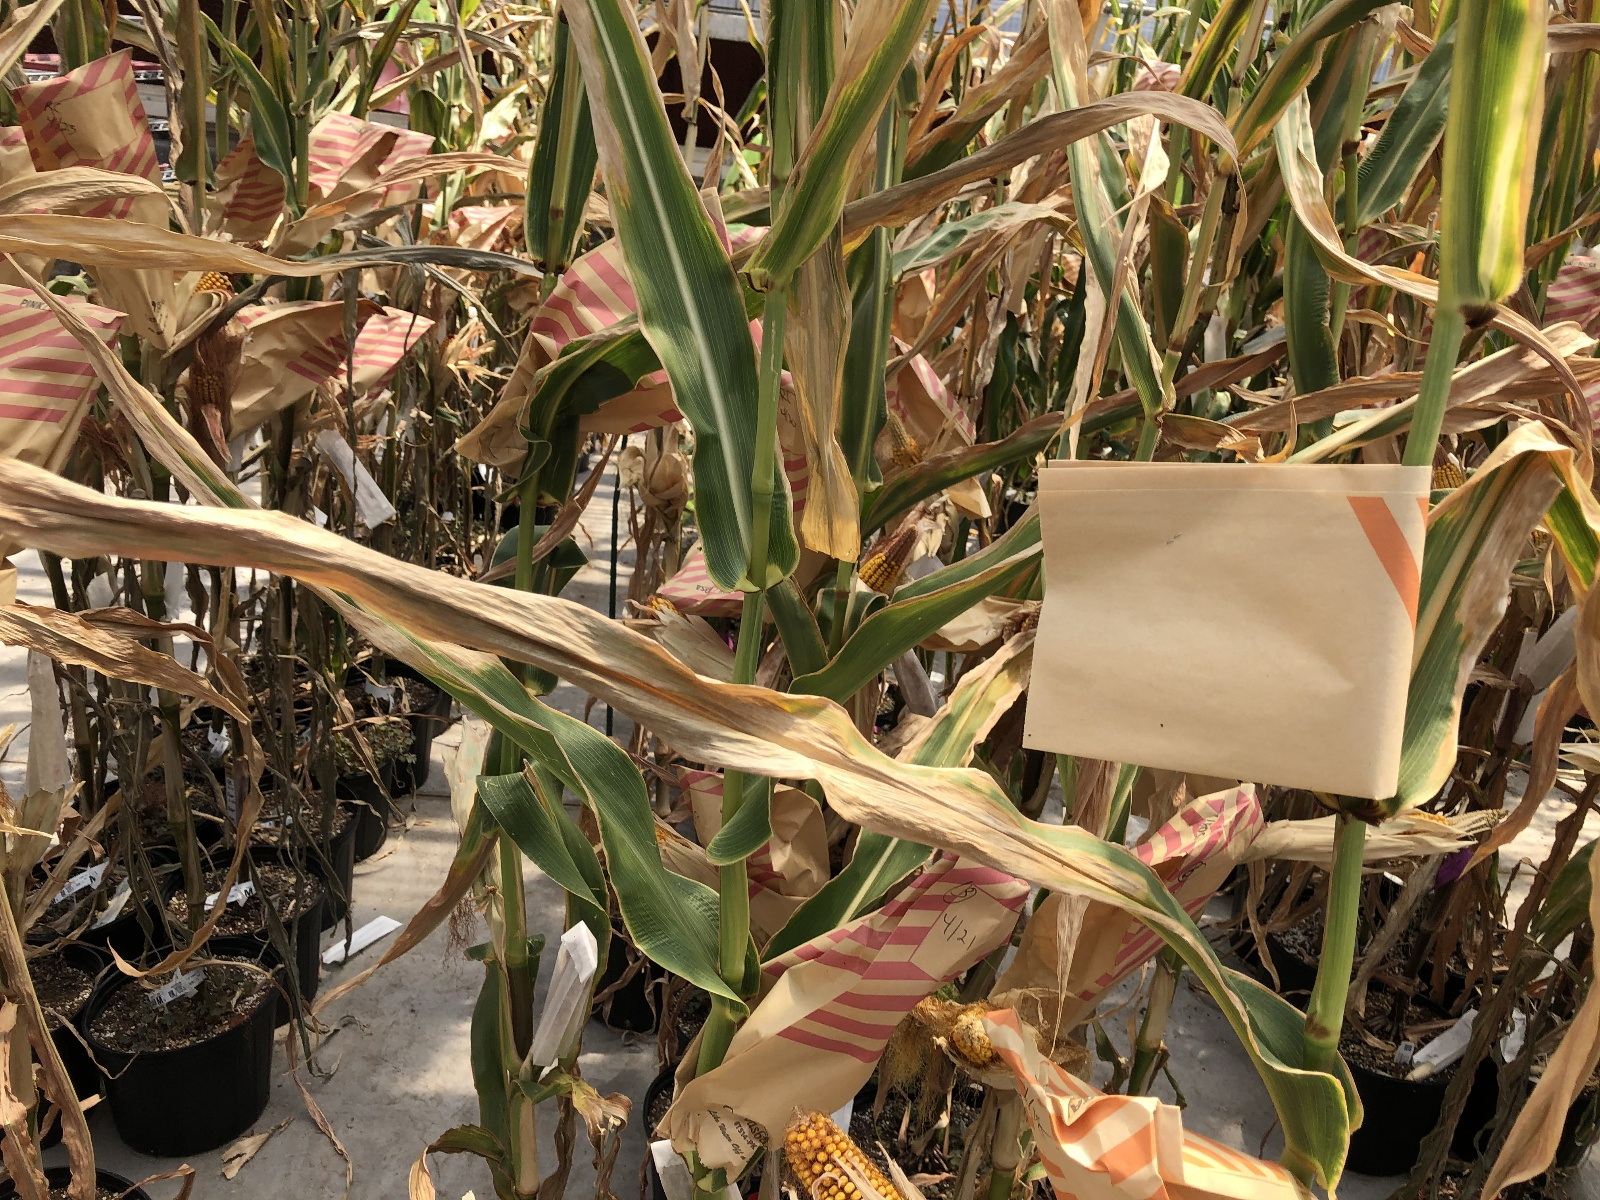ear: (782, 1109, 905, 1197), (1264, 811, 1511, 852), (173, 241, 266, 328), (937, 991, 1029, 1070), (653, 804, 721, 884), (186, 344, 236, 434), (855, 524, 916, 594), (882, 405, 930, 471), (1429, 436, 1468, 493), (637, 586, 682, 634)
